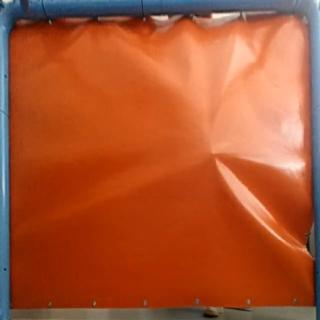Hit-hRxx: (208, 146, 222, 160)
